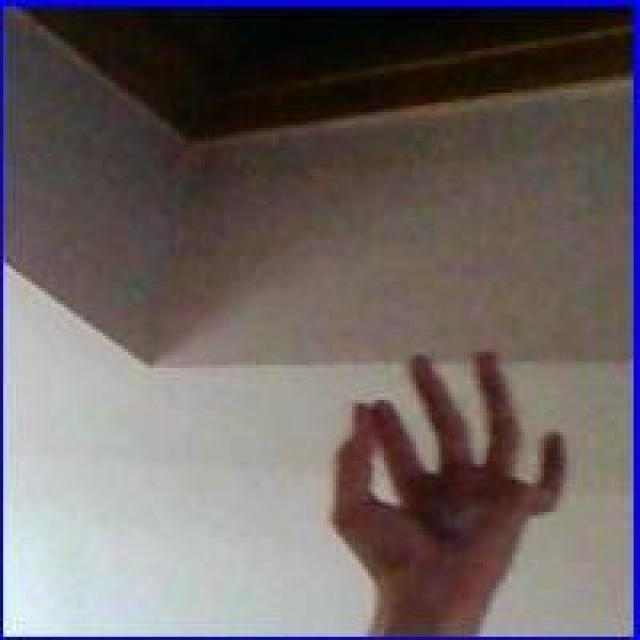F: (314, 339, 572, 637)
